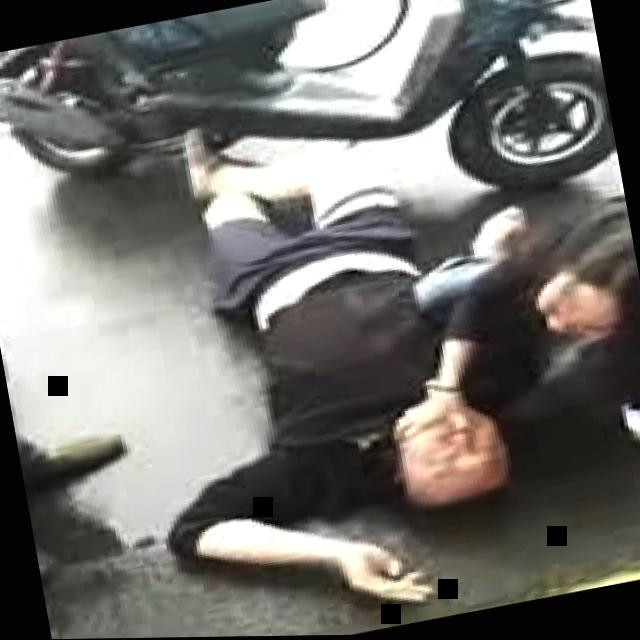Fall-Detected: (87, 53, 530, 639)
